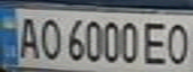0: (81, 17, 103, 63), (103, 17, 124, 64), (121, 18, 142, 65)
6: (63, 15, 87, 62)
A: (12, 12, 42, 60)
E: (139, 18, 172, 66)
O: (163, 19, 193, 66), (36, 15, 63, 61)
